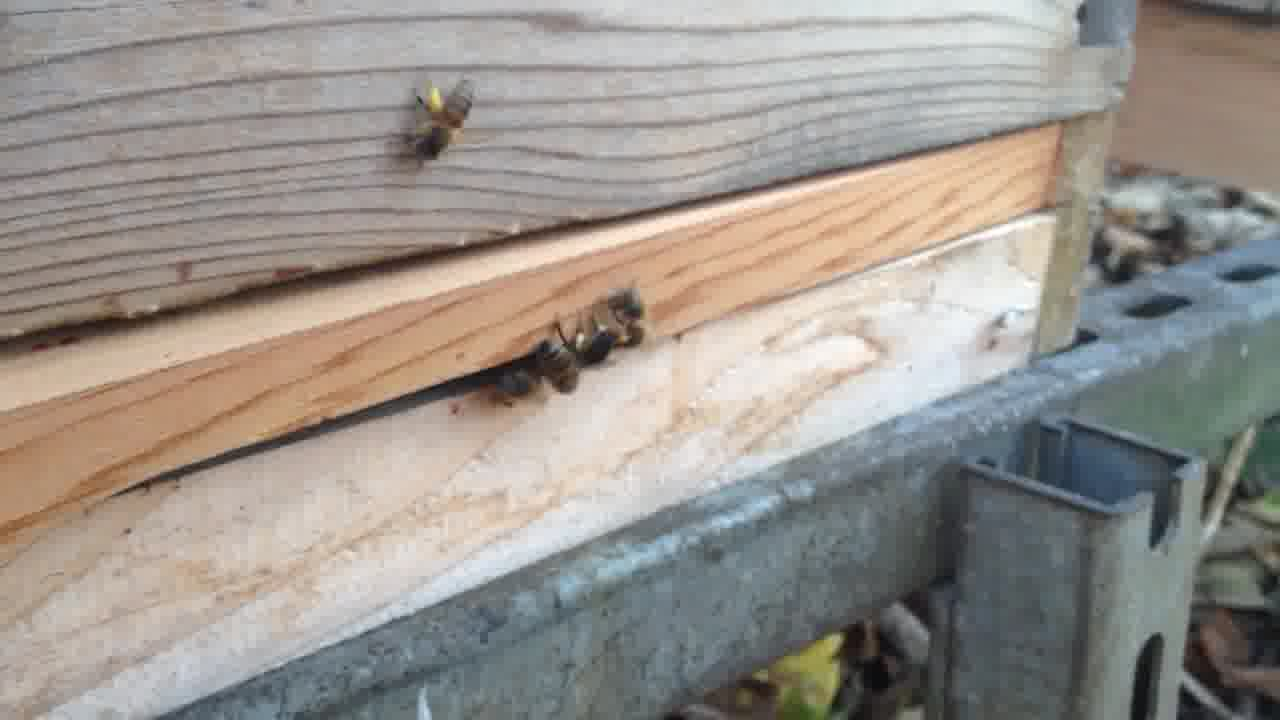pollen: (393, 77, 478, 162)
